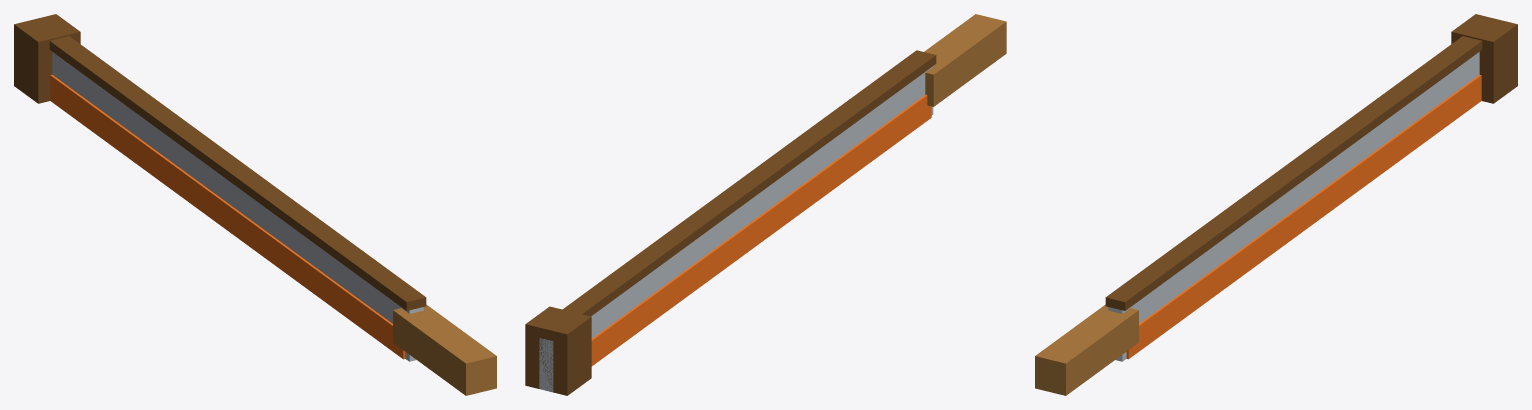
The model's file is PR_Blade.fbx.
The picture shows the model from 3 angles, left to right: view 1: azimuth 30°, elevation 25°; view 2: azimuth 150°, elevation 25°; view 3: azimuth 330°, elevation 25°; orthographic projection.
Visible parts, largest first — view 1: PR_Blade; view 2: PR_Blade; view 3: PR_Blade.
Boxes of the visible parts, x1,y1,x2,y2 form: PR_Blade: [14, 14, 496, 395]; PR_Blade: [525, 14, 1006, 395]; PR_Blade: [1035, 14, 1517, 395].
Size of the model in its own units: 0.3 by 5.5 by 0.42.
